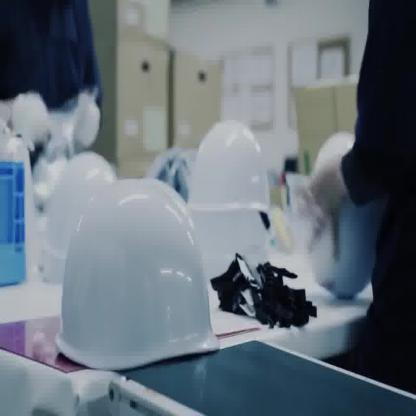helmet: (55, 176, 222, 374), (288, 128, 379, 302), (44, 148, 118, 281), (187, 118, 270, 232)
